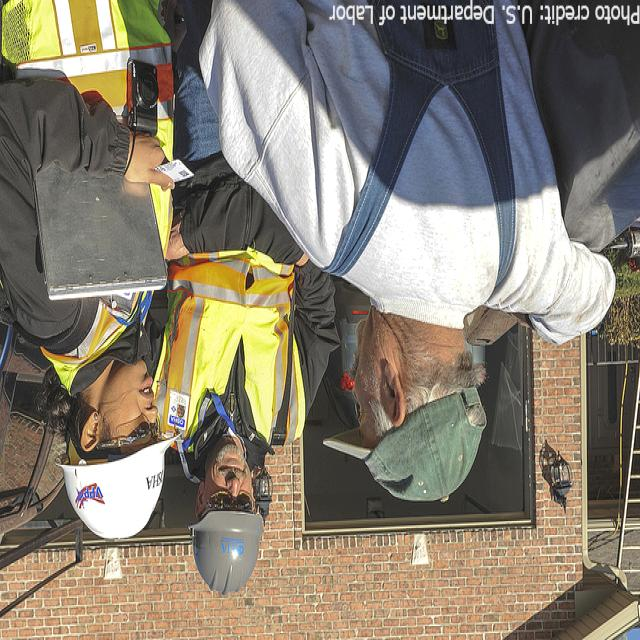Hard Hat: (56, 433, 182, 548), (184, 510, 268, 600)
Reflective Vest: (0, 0, 175, 399), (144, 248, 306, 454)
Safety Glasses: (78, 413, 170, 451), (194, 488, 260, 512)
